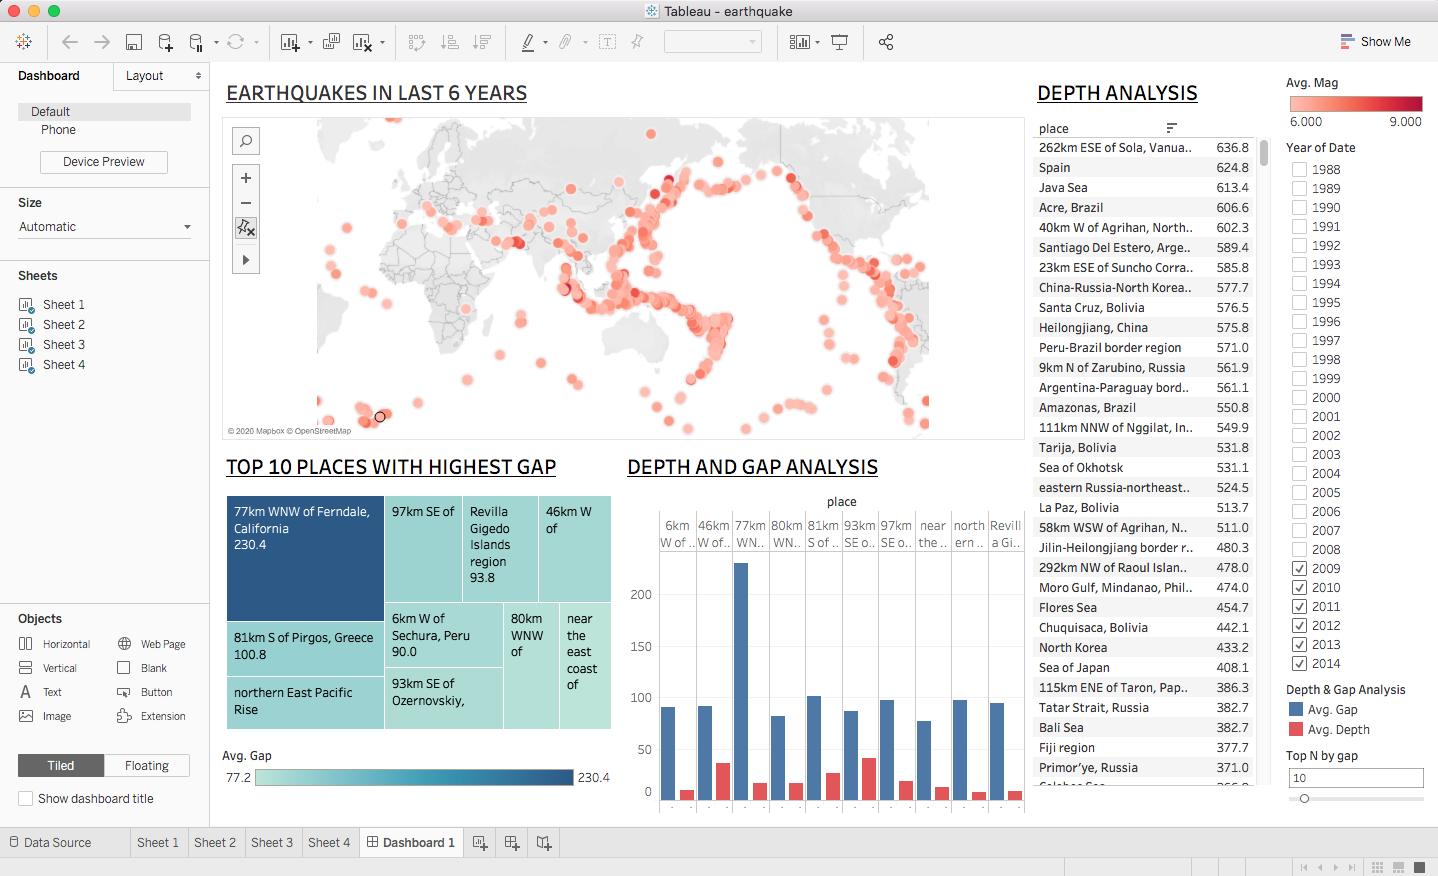

This screenshot's page, from the dashboard's own definition file:
{"tool":"tableau","page":{"name":"Dashboard 1","canvas":[1000,1000],"units":"permille","ordinal":0},"visuals":[{"type":"worksheet","title":"Sheet 1","mark":"Automatic","rows":["latitude"],"cols":["longitude"],"box":[6.5,10.5,659.9,489.5]},{"type":"worksheet","title":"Sheet 3","mark":"Automatic","rows":["place"],"box":[666.4,10.5,206,979.1]},{"type":"legend","title":"Sheet 1","param":"[federated.1tk4vrq09dtz8i13pzco10axl278].[avg:mag:qk]","box":[872.4,10.5,121.1,85.1]},{"type":"filter","title":"Sheet 1","param":"[federated.1tk4vrq09dtz8i13pzco10axl278].[yr:Date:ok]","box":[872.4,95.5,121.1,709.4]},{"type":"worksheet","title":"Sheet 2","mark":"Automatic","box":[6.5,500,326.3,391.4]},{"type":"worksheet","title":"Sheet 4","mark":"Automatic","cols":["place"],"box":[332.8,500,333.6,489.5]},{"type":"legend","title":"Sheet 4","param":"[federated.1tk4vrq09dtz8i13pzco10axl278].[:Measure Names]","box":[872.4,805,121.1,86.4]},{"type":"legend","title":"Sheet 2","param":"[federated.1tk4vrq09dtz8i13pzco10axl278].[avg:gap:qk]","box":[6.5,891.4,326.3,98.2]},{"type":"parameter","param":"[Parameters].[Parameter 2]","box":[872.4,891.4,121.1,98.2]}]}

Visuals, with their boxes on the dashboard's canvas, which has no fixed pixel size, in thousandths of its width and height (x1, y1, x2, y2). These are canvas units, not pixel positions in the 1438x876 screenshot, which may show the page scaled, cropped or inside an application window:
"Sheet 1" worksheet: [x1=6, y1=10, x2=666, y2=500]
"Sheet 3" worksheet: [x1=666, y1=10, x2=872, y2=990]
"Sheet 1" legend: [x1=872, y1=10, x2=994, y2=96]
"Sheet 1" filter: [x1=872, y1=96, x2=994, y2=805]
"Sheet 2" worksheet: [x1=6, y1=500, x2=333, y2=891]
"Sheet 4" worksheet: [x1=333, y1=500, x2=666, y2=990]
"Sheet 4" legend: [x1=872, y1=805, x2=994, y2=891]
"Sheet 2" legend: [x1=6, y1=891, x2=333, y2=990]
parameter: [x1=872, y1=891, x2=994, y2=990]
